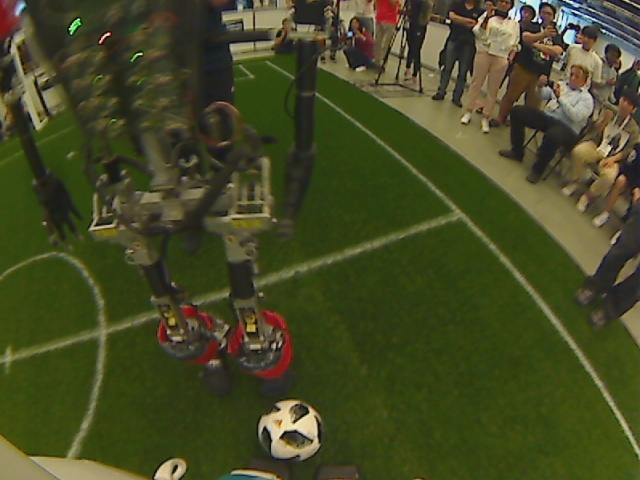ball: (256, 396, 325, 461)
